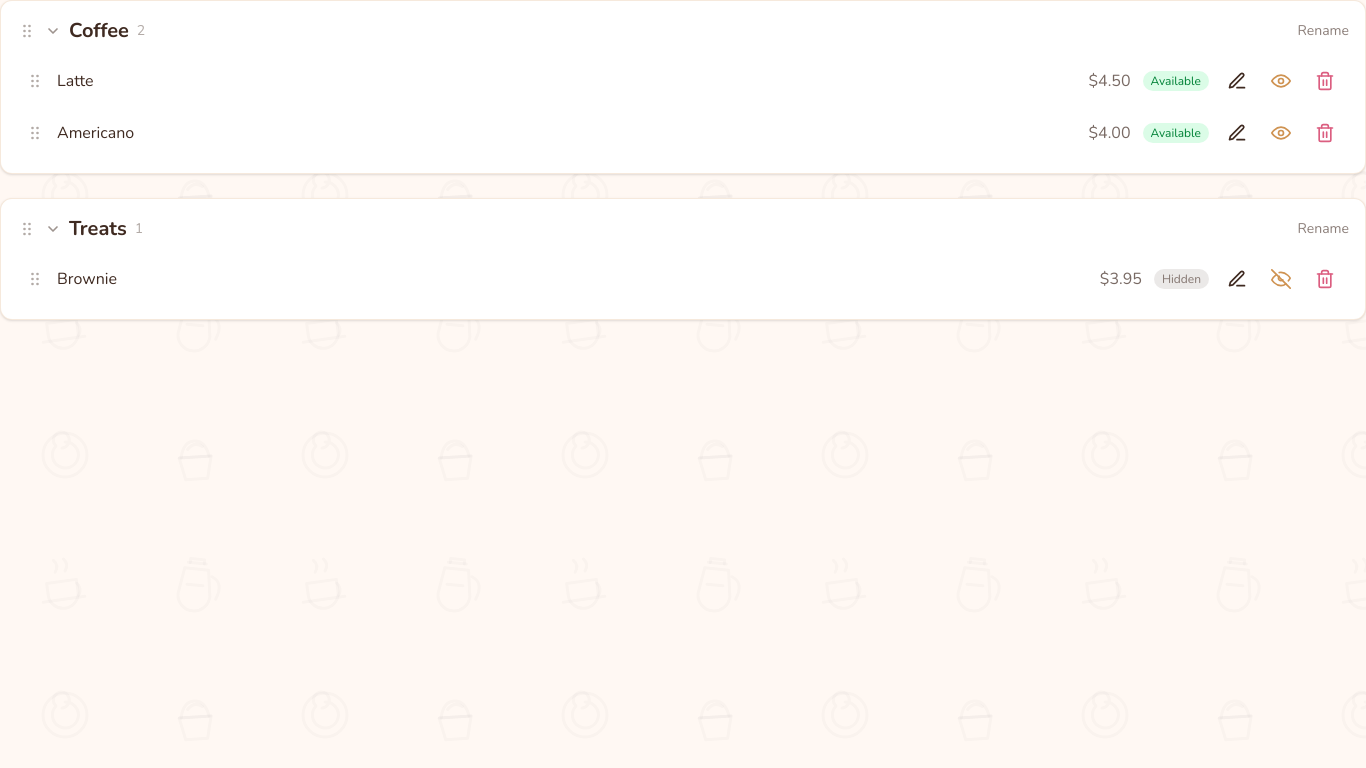
DraggableMenu › collapses and expands a category independently
The width and height of the screenshot is (1366, 768).
Expected: the text "Latte" is shown, [57,70,94,92]
Click the button with aria-label "collapse coffee" at (99, 30), box [45,17,1290,45]
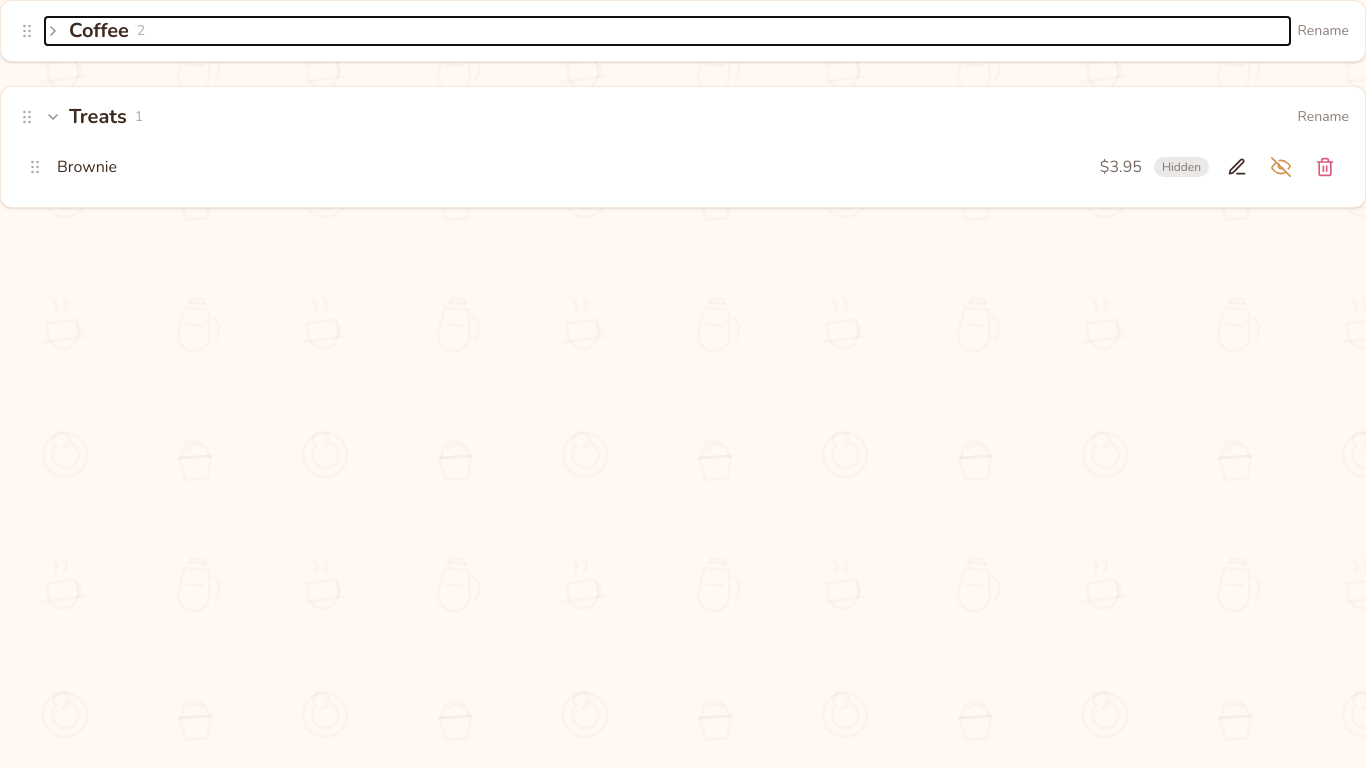
Expected: the text "Brownie" is shown, [57,156,117,178]
Now the text "Latte" is gone
Now the text "Americano" is gone
Click the button with aria-label "expand coffee" at (99, 30), box [45,17,1290,45]
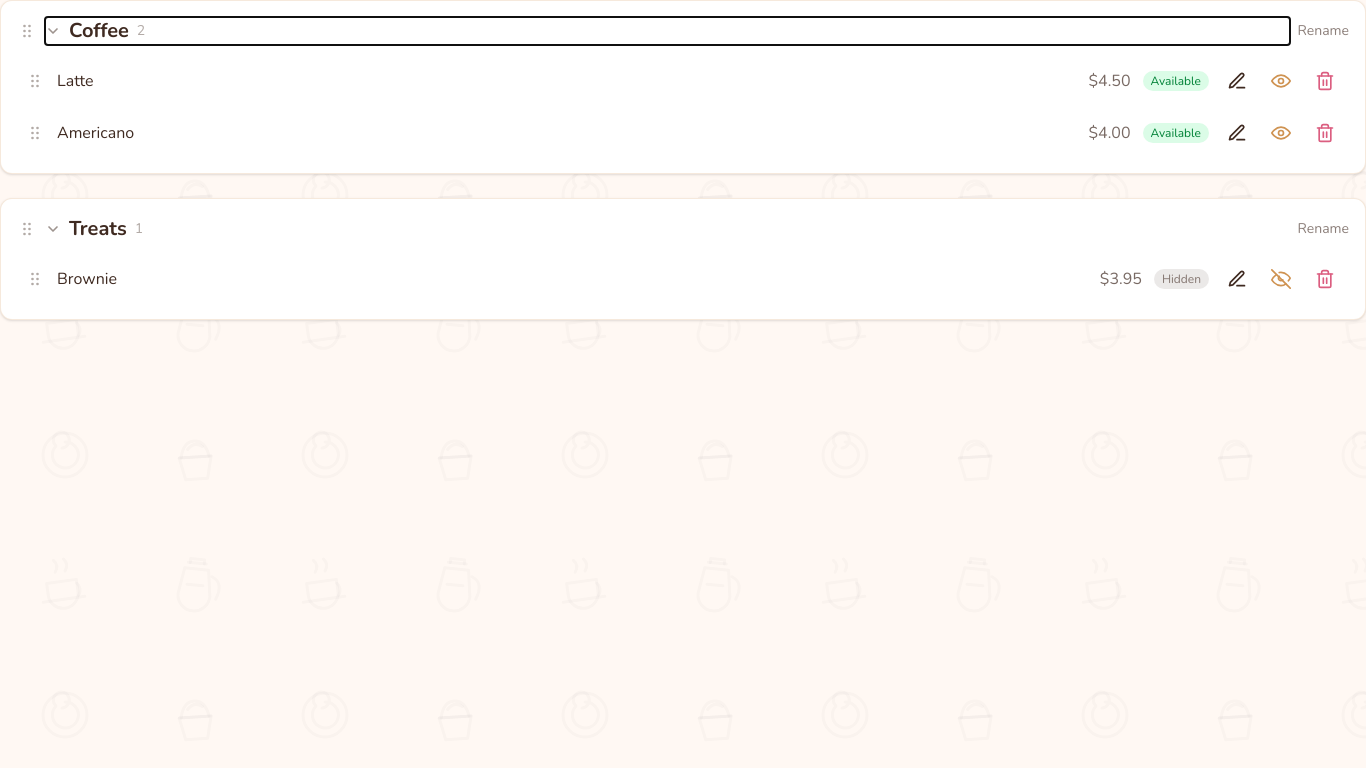
Now the text "Latte" is shown, box [57,70,94,92]
